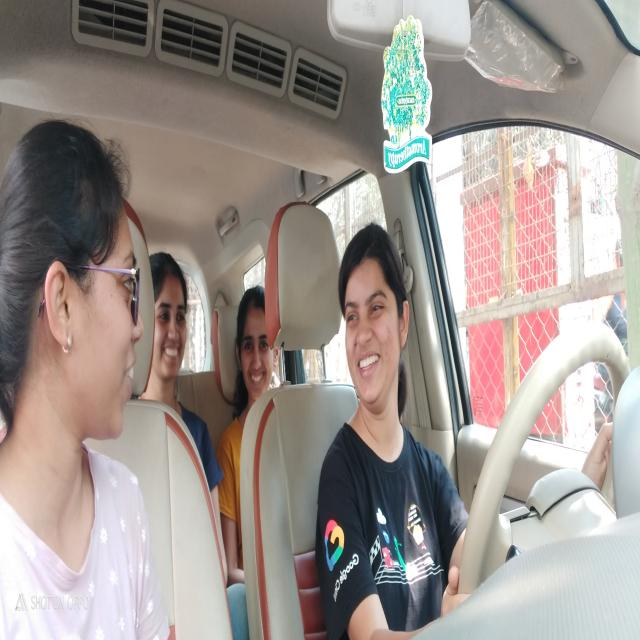LeftRight: (338, 220, 412, 418)
person: (3, 118, 148, 457), (145, 248, 189, 396), (235, 278, 276, 400)
talking: (356, 348, 382, 382), (124, 346, 138, 396)
